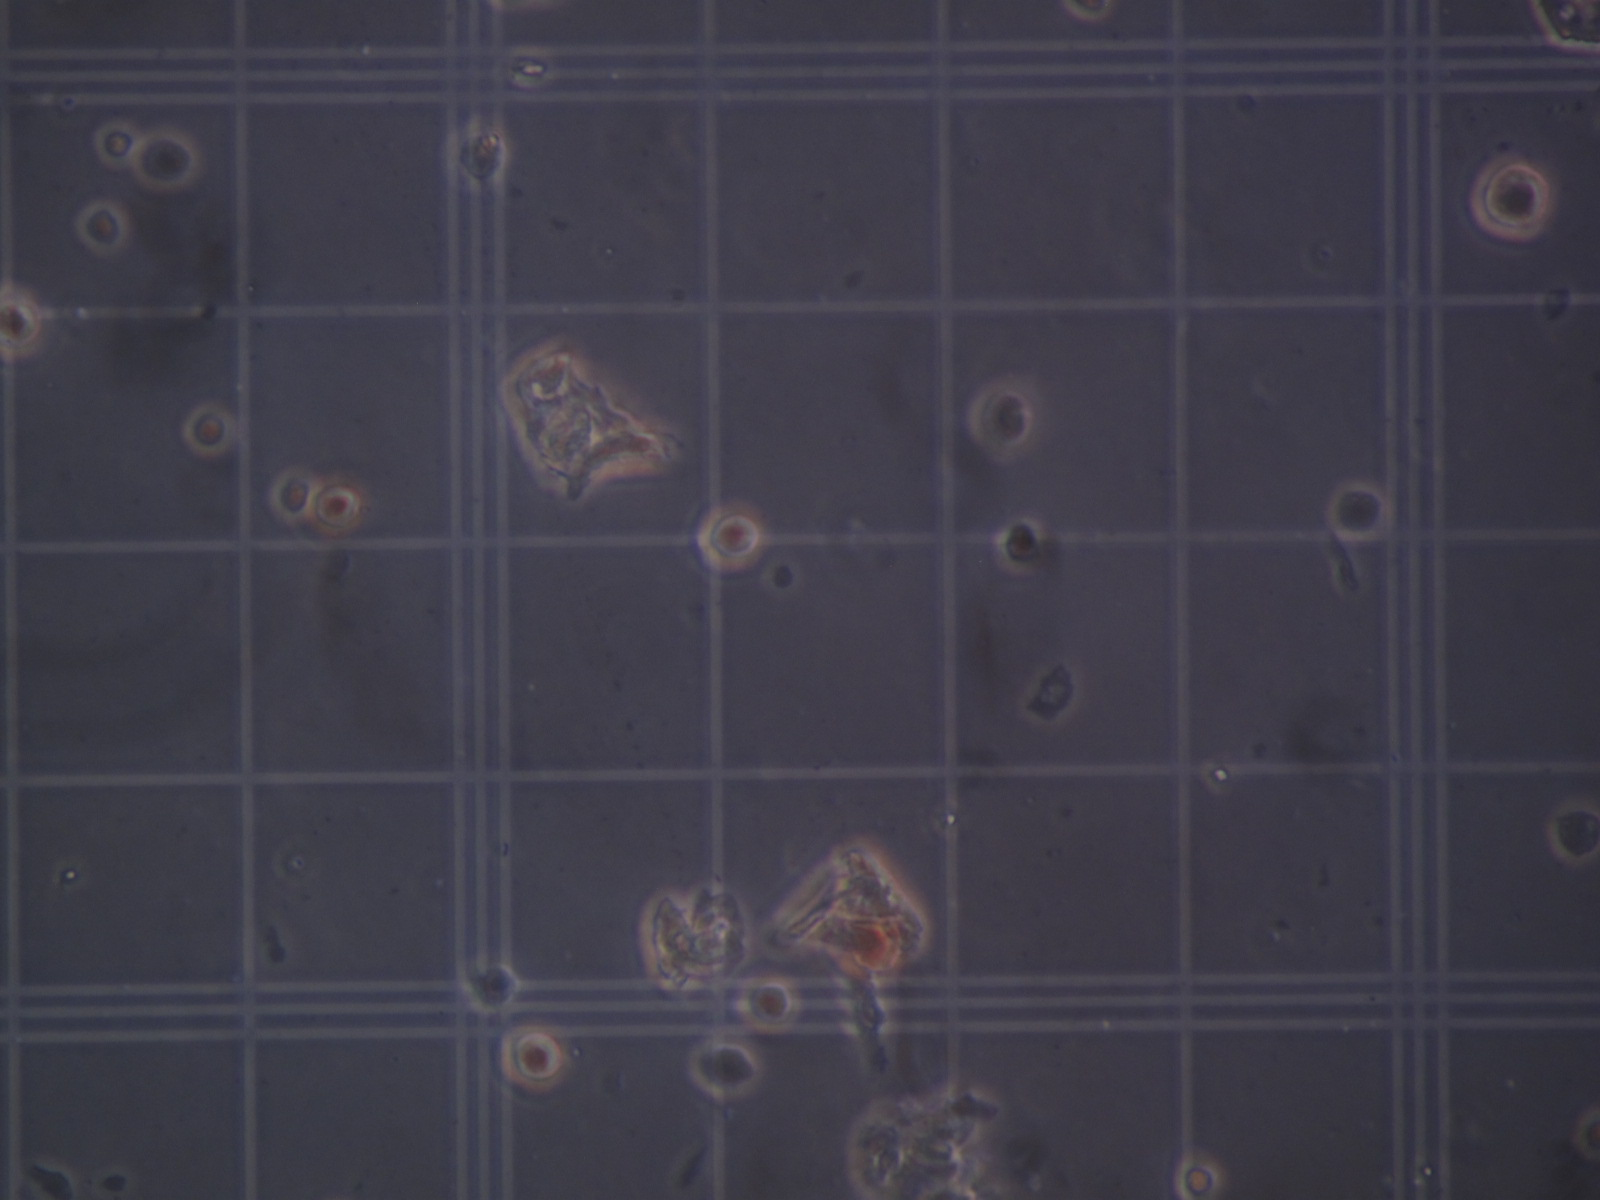hemo: (1470, 155, 1551, 241), (968, 379, 1039, 458), (500, 1020, 568, 1093), (697, 502, 763, 570), (688, 1037, 761, 1099), (134, 129, 199, 192), (1327, 479, 1390, 542), (736, 976, 803, 1035), (1546, 798, 1600, 865), (454, 124, 509, 188), (1, 284, 47, 361), (1529, 1, 1600, 50), (464, 957, 522, 1013), (309, 476, 363, 534), (181, 402, 236, 458), (74, 200, 129, 255), (995, 516, 1044, 575), (268, 466, 317, 522), (1174, 1155, 1223, 1200), (93, 121, 139, 168), (1574, 1107, 1600, 1161), (1063, 1, 1112, 21)
